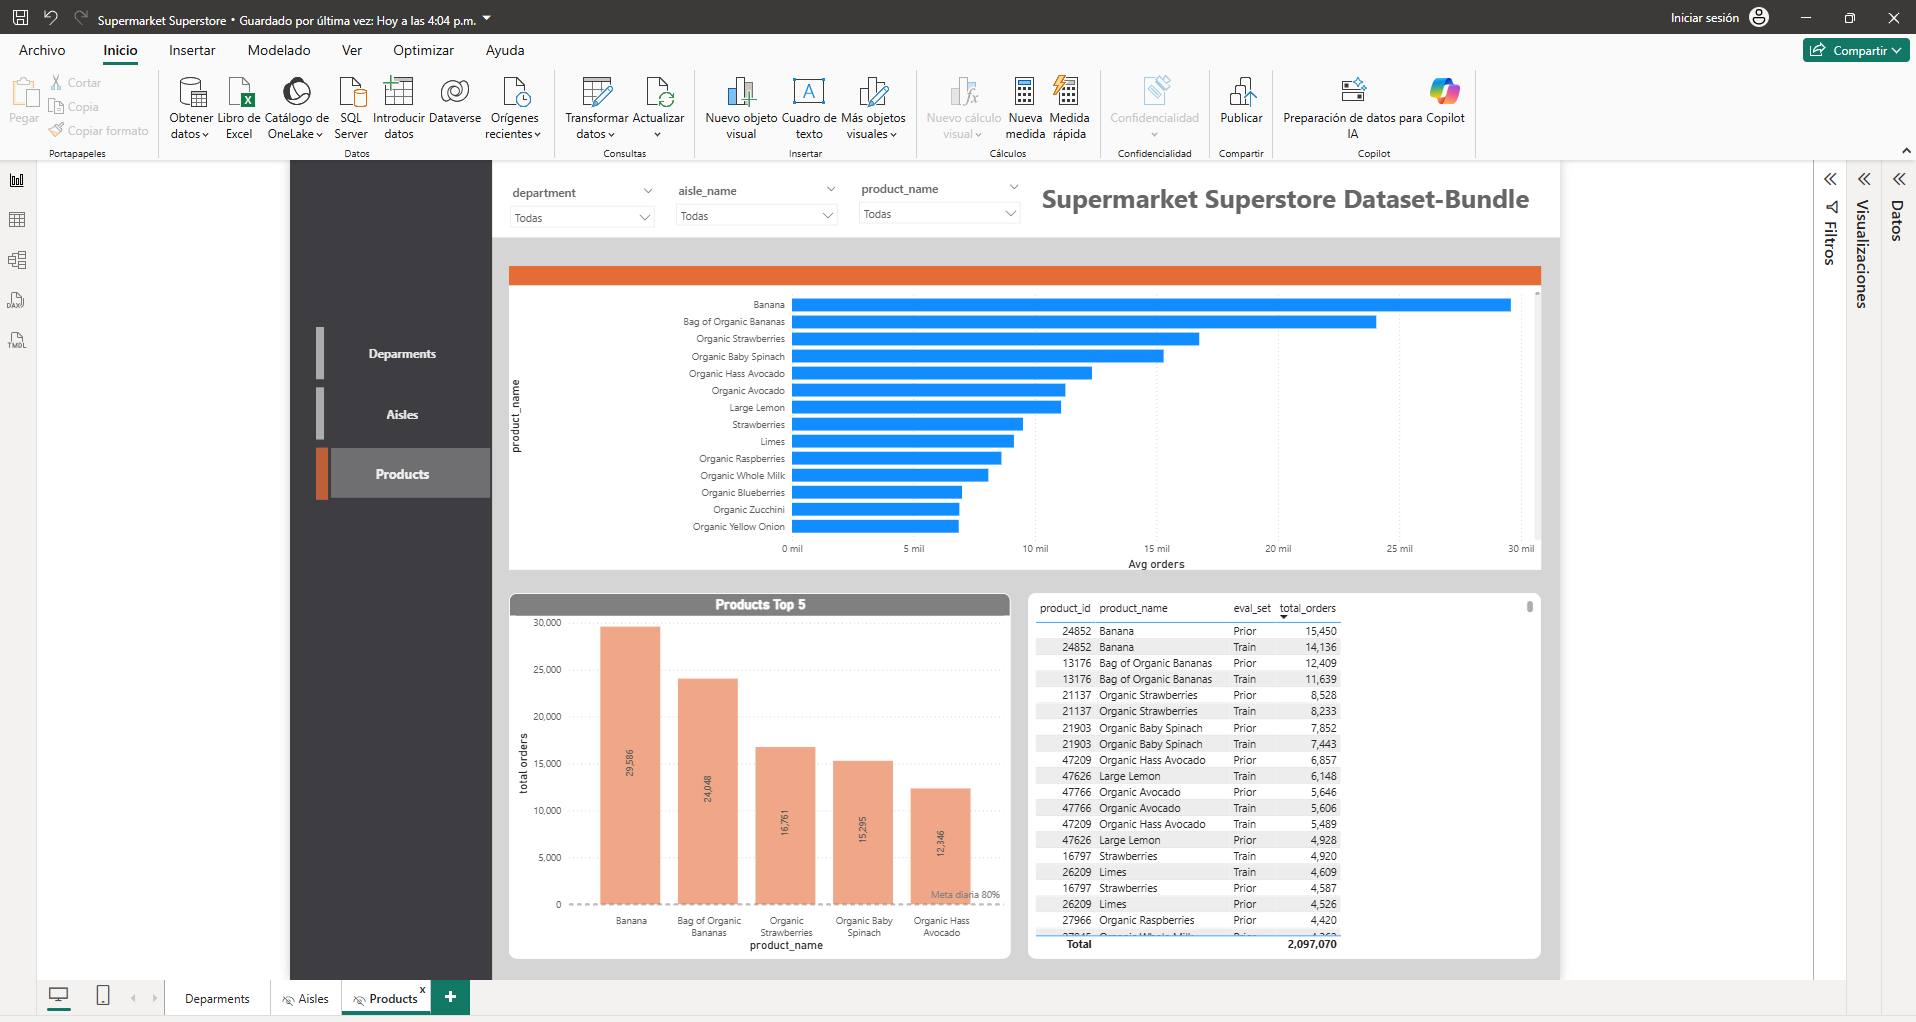

The dashboard page shown, as its layout file describes it:
{"tool":"powerbi","page":{"name":"Products","canvas":[1580,1020],"ordinal":2},"visuals":[{"type":"textbox","box":[896.9,19.9,682.9,54.7],"z":0},{"type":"tableEx","fields":{"Values":["tbl_kpis_eval_set.product_id","tbl_kpis_eval_set.product_name","tbl_kpis_eval_set.eval_set","Sum(tbl_kpis_eval_set.total_orders)"]},"box":[918,538.6,638.1,455.3],"z":1000},{"type":"lineClusteredColumnComboChart","title":"Products Top 5","fields":{"Y":["Sum(tbl_kpis_eval_set.total_orders)"],"Category":["tbl_kpis_eval_set.product_name"]},"box":[272.4,538.6,624.4,455.3],"z":2000},{"type":"clusteredBarChart","title":" ","fields":{"Category":["tbl_kpis_eval_set.product_name"],"Y":["Sum(tbl_kpis_eval_set.total_orders)"]},"box":[272.4,131.9,1283.7,378.1],"z":3000},{"type":"slicer","fields":{"Values":["tbl_kpis_eval_set.department"]},"box":[263.7,24.9,200.3,72.1],"z":4000},{"type":"slicer","fields":{"Values":["tbl_kpis_eval_set.aisle_name"]},"box":[470.2,22.4,221.4,72.1],"z":5000},{"type":"slicer","fields":{"Values":["tbl_kpis_eval_set.product_name"]},"box":[697.8,19.9,221.4,72.1],"z":6000},{"type":"pageNavigator","box":[32.8,207.1,216,216],"z":6001},{"type":"shape","box":[50.5,358.7,198.3,61.9],"z":6002}]}

Visuals, with their boxes on the page's 1580x1020 design canvas (x1, y1, x2, y2). These are canvas units, not pixel positions in the 1916x1022 screenshot, which may show the page scaled, cropped or inside an application window:
textbox: Rect(897, 20, 1580, 75)
tableEx - tbl_kpis_eval_set.product_id x tbl_kpis_eval_set.product_name: Rect(918, 539, 1556, 994)
"Products Top 5" lineClusteredColumnComboChart: Rect(272, 539, 897, 994)
" " clusteredBarChart: Rect(272, 132, 1556, 510)
slicer - tbl_kpis_eval_set.department: Rect(264, 25, 464, 97)
slicer - tbl_kpis_eval_set.aisle_name: Rect(470, 22, 692, 94)
slicer - tbl_kpis_eval_set.product_name: Rect(698, 20, 919, 92)
pageNavigator: Rect(33, 207, 249, 423)
shape: Rect(50, 359, 249, 421)
